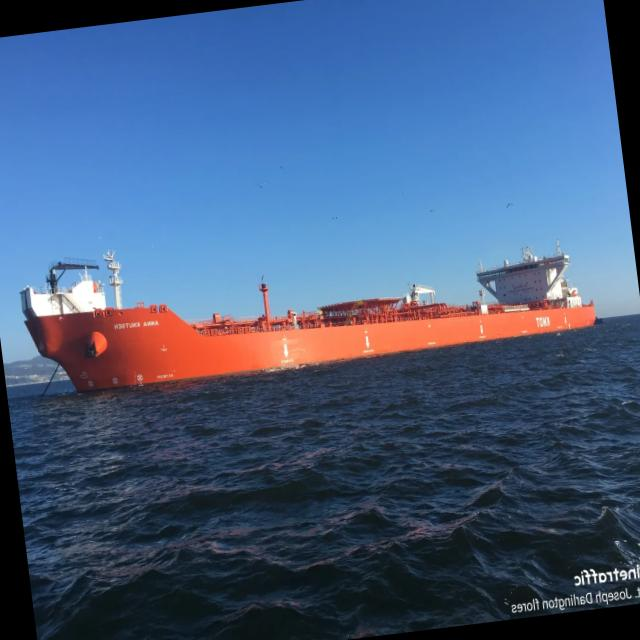Tanker: (20, 243, 596, 391)
